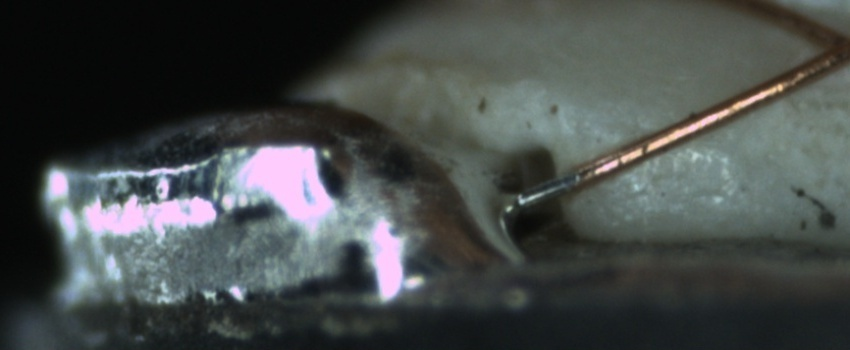CL: (796, 11, 850, 78)
TS: (513, 172, 580, 208)
